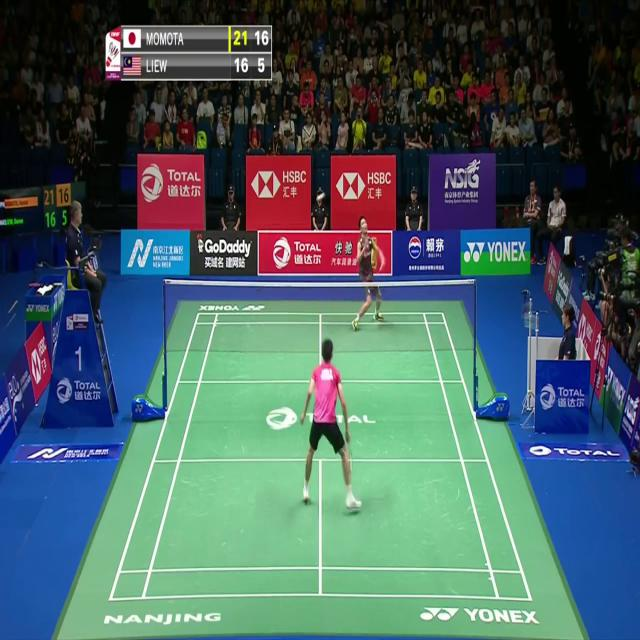Shuttlecock: (317, 191, 323, 202)
